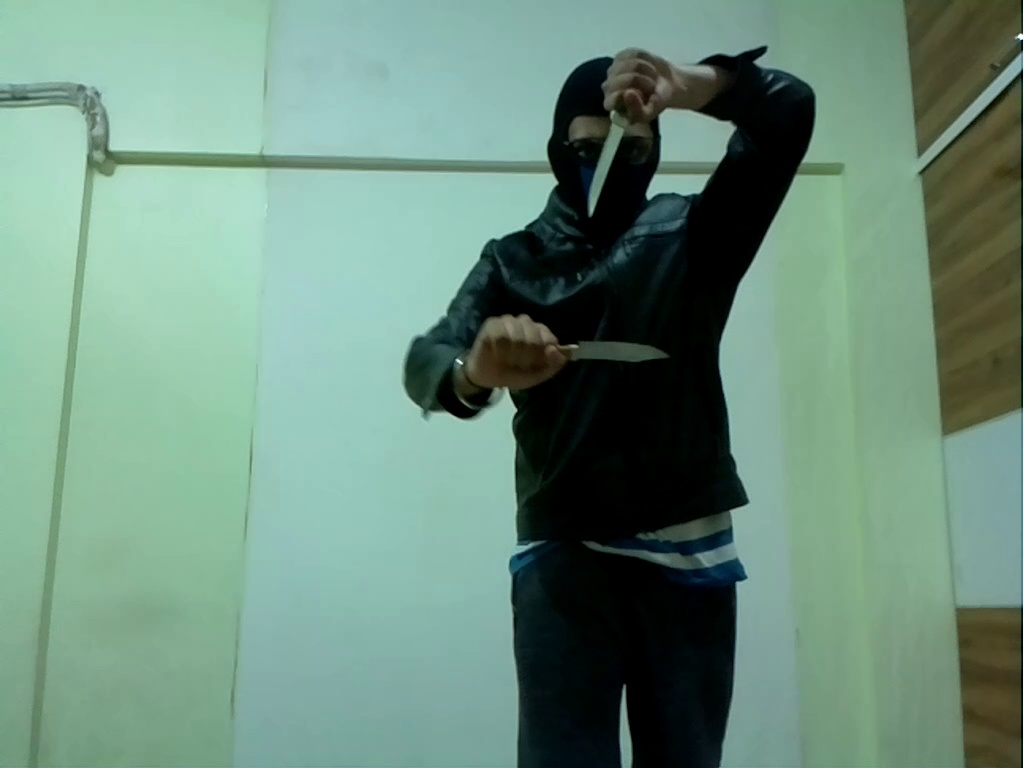knife: (582, 95, 639, 218), (552, 336, 681, 373)
